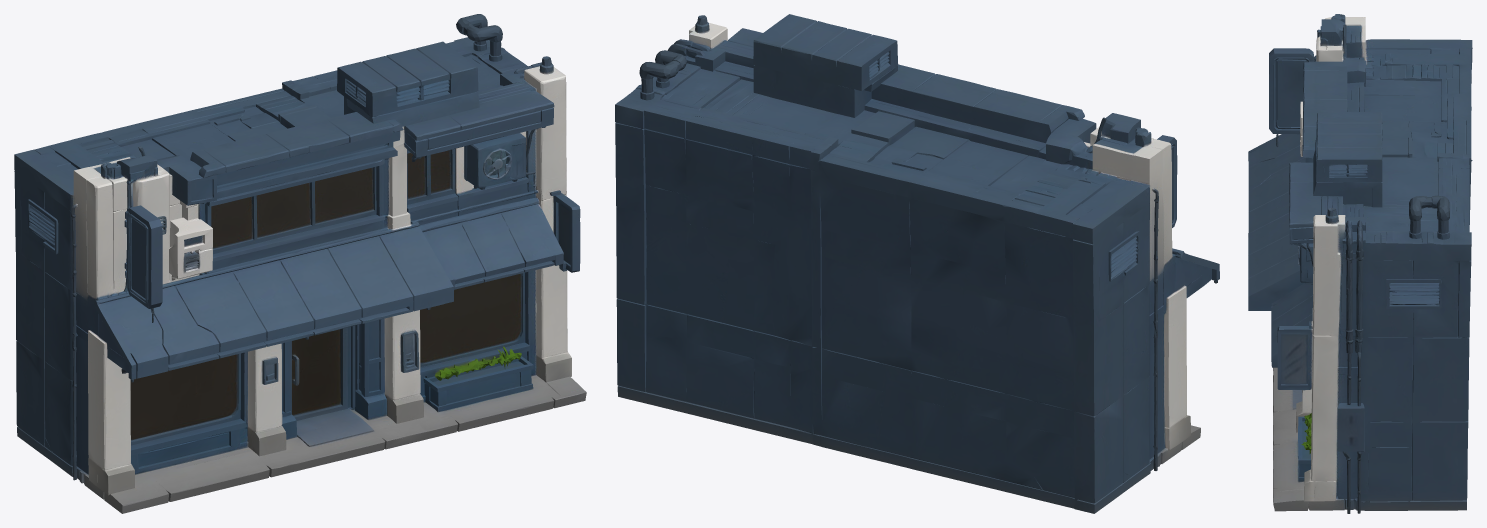
The model's file is scene-detail.glb.
3 renders of one model, left to right at view 1: azimuth 30°, elevation 25°; view 2: azimuth 150°, elevation 25°; view 3: azimuth 270°, elevation 25°, orthographic. The views are drawn at different scales.
Parts seen in each view (by area): view 1: model; view 2: model; view 3: model.
Part boxes in pixels (x1,y1,x2,y2): model: [14, 14, 586, 513]; model: [615, 14, 1219, 513]; model: [1248, 14, 1472, 513].
Size of the model in its own units: 1.89 by 1.26 by 0.8172.
Materials: 1 (1 with a texture image).
